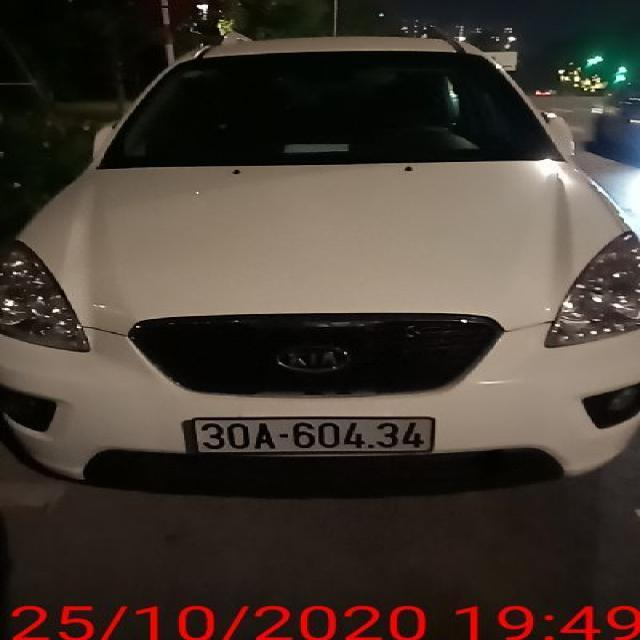bien_so_oto: (192, 418, 436, 454)
